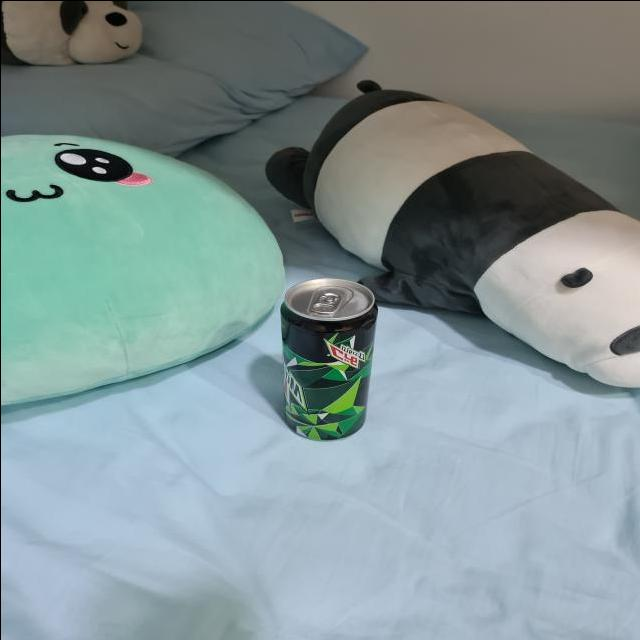can: (261, 273, 395, 443)
